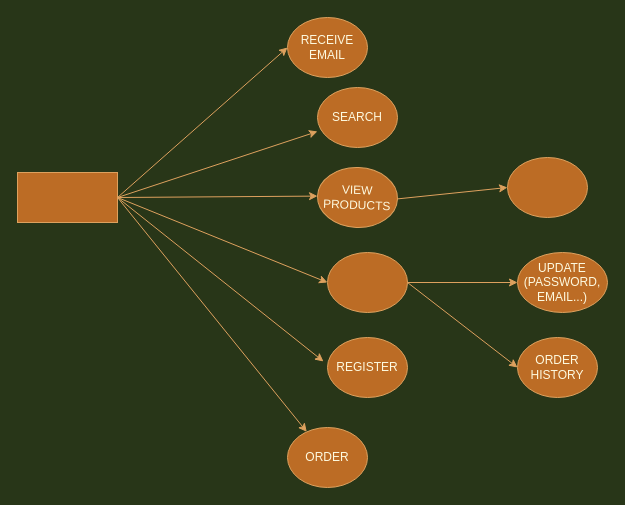
Image size: 625x505. Some labels were removed from this diagram. Each missing label, with the centre of its shape:
"ADD TO CART" belongs at point (547, 187).
"Guess" belongs at point (67, 197).
"SIGN IN" belongs at point (367, 282).
